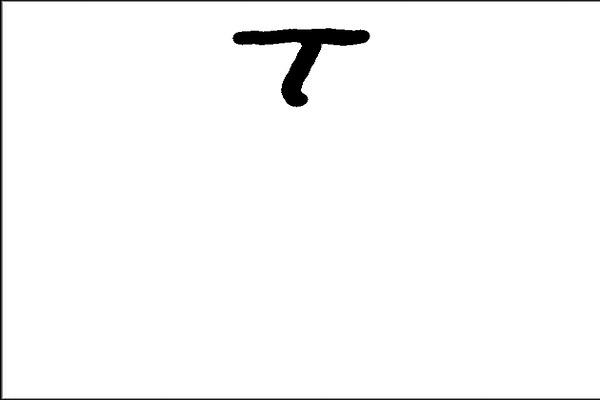T: (231, 23, 374, 106)
